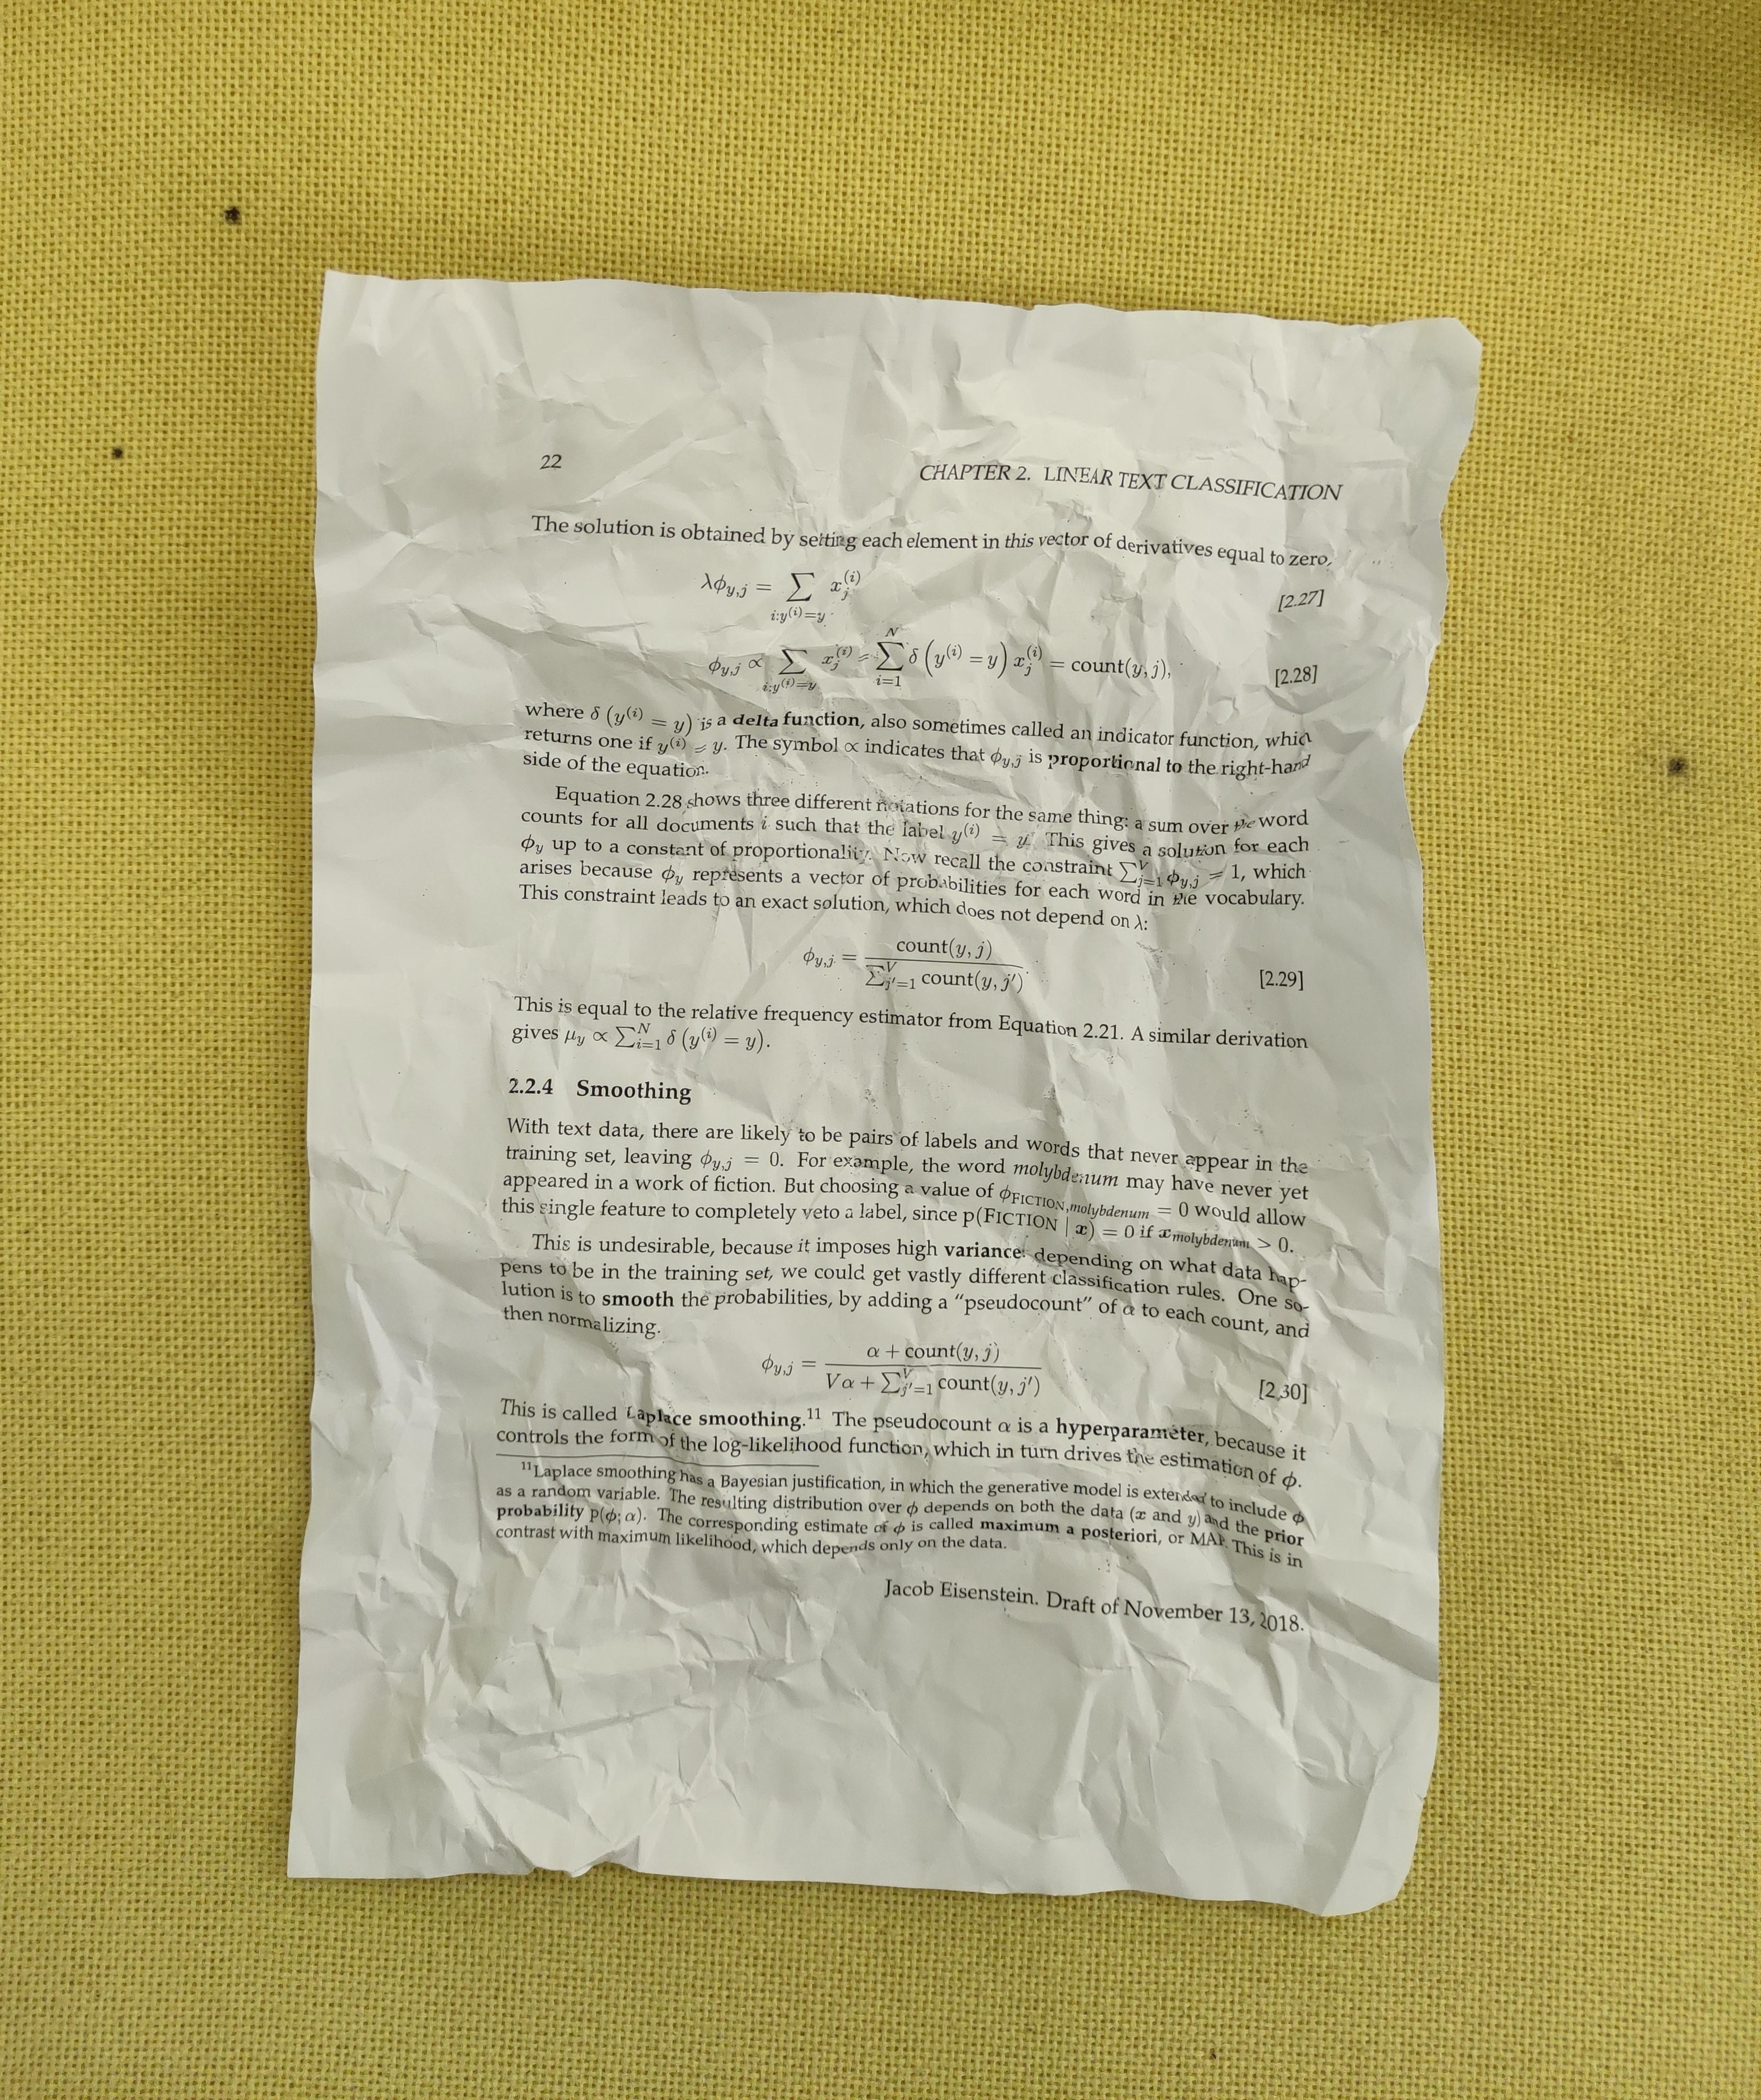paper: (157, 175, 1530, 1958)
